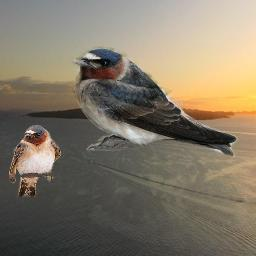Swallow: (69, 46, 239, 158), (9, 125, 61, 197)
